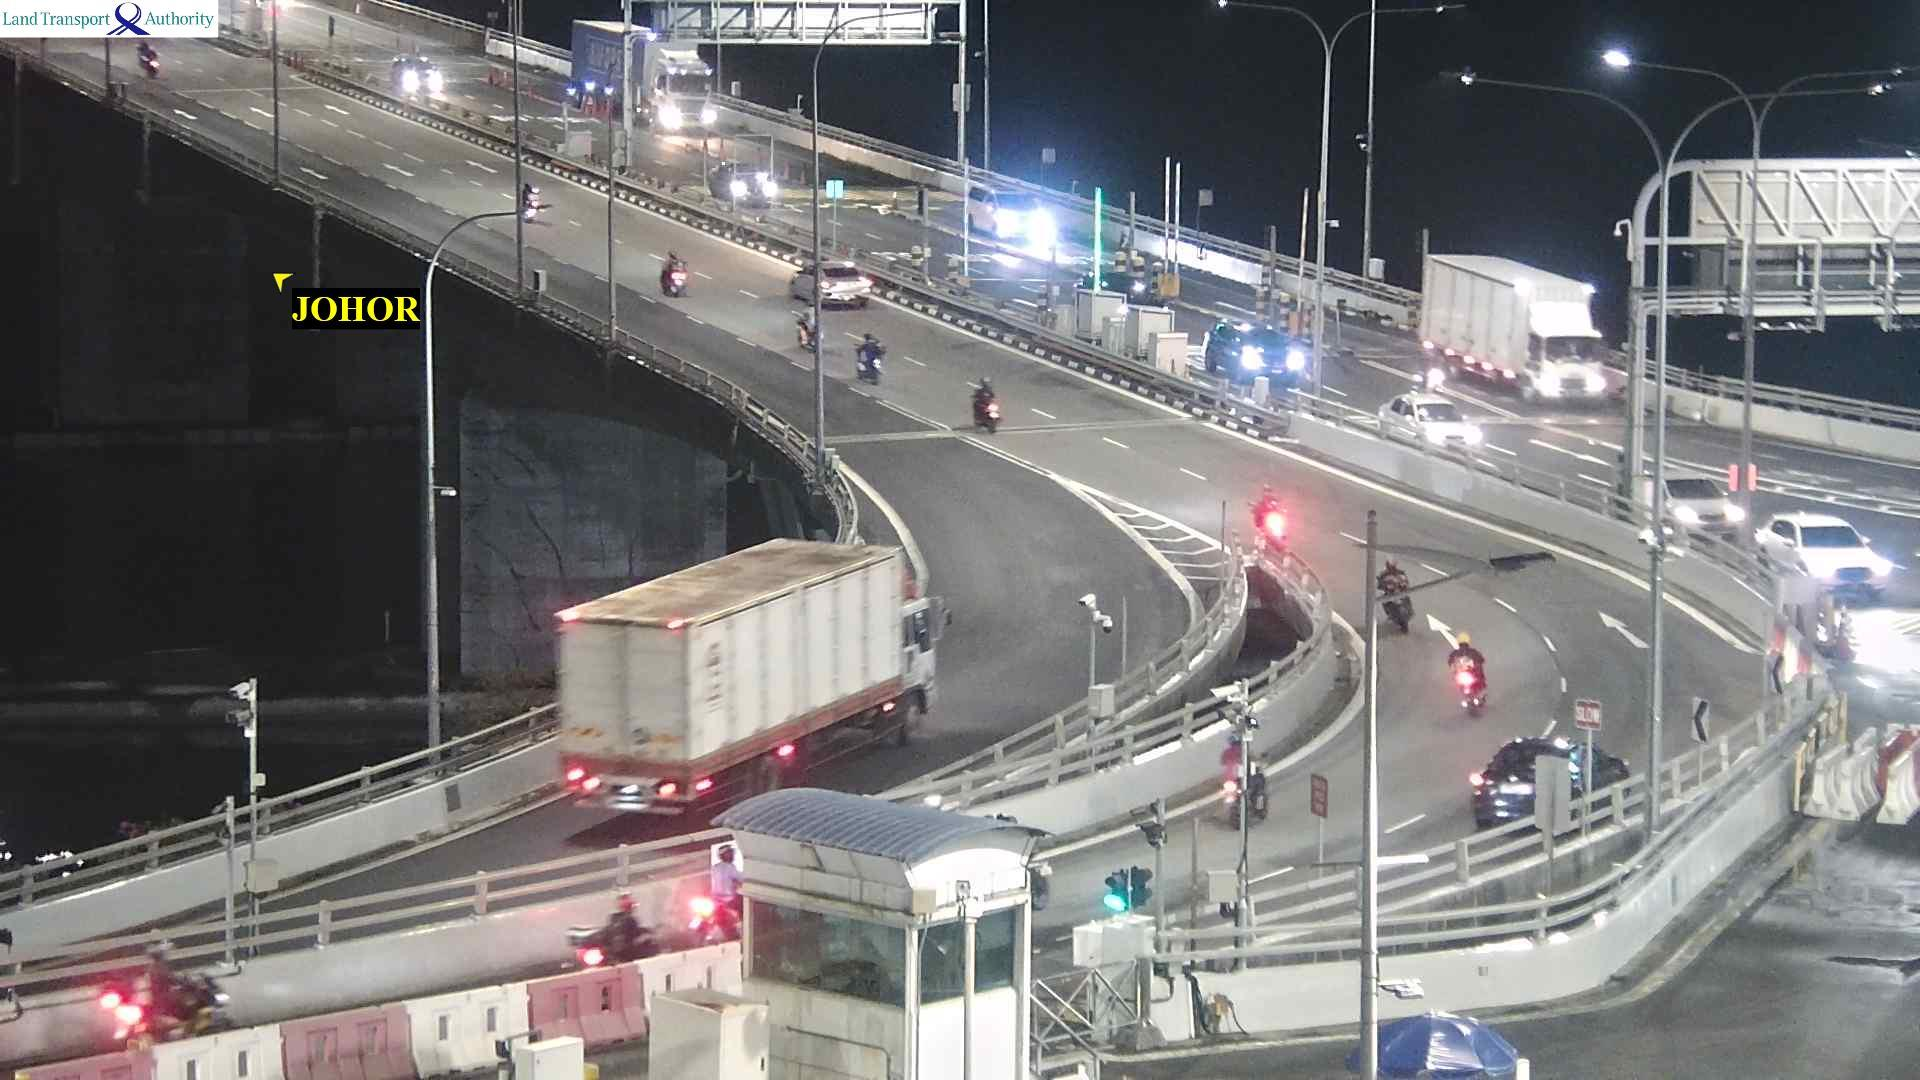vehicle-secondlink-johor: (564, 531, 940, 808), (1468, 735, 1629, 833), (100, 940, 237, 1050), (560, 895, 661, 965), (688, 851, 742, 943), (1222, 731, 1271, 825), (791, 260, 869, 307), (1447, 632, 1490, 715), (1375, 554, 1414, 632), (1251, 479, 1284, 551), (853, 334, 885, 384), (657, 251, 687, 299), (973, 375, 998, 431), (794, 303, 816, 351), (137, 40, 161, 79)
vehicle-secondlink-singapore: (1423, 251, 1610, 410), (572, 15, 725, 132), (1754, 512, 1905, 599), (1207, 318, 1300, 386), (1379, 394, 1485, 452), (968, 177, 1043, 243), (1659, 472, 1737, 522), (708, 160, 771, 208), (392, 54, 446, 98)
